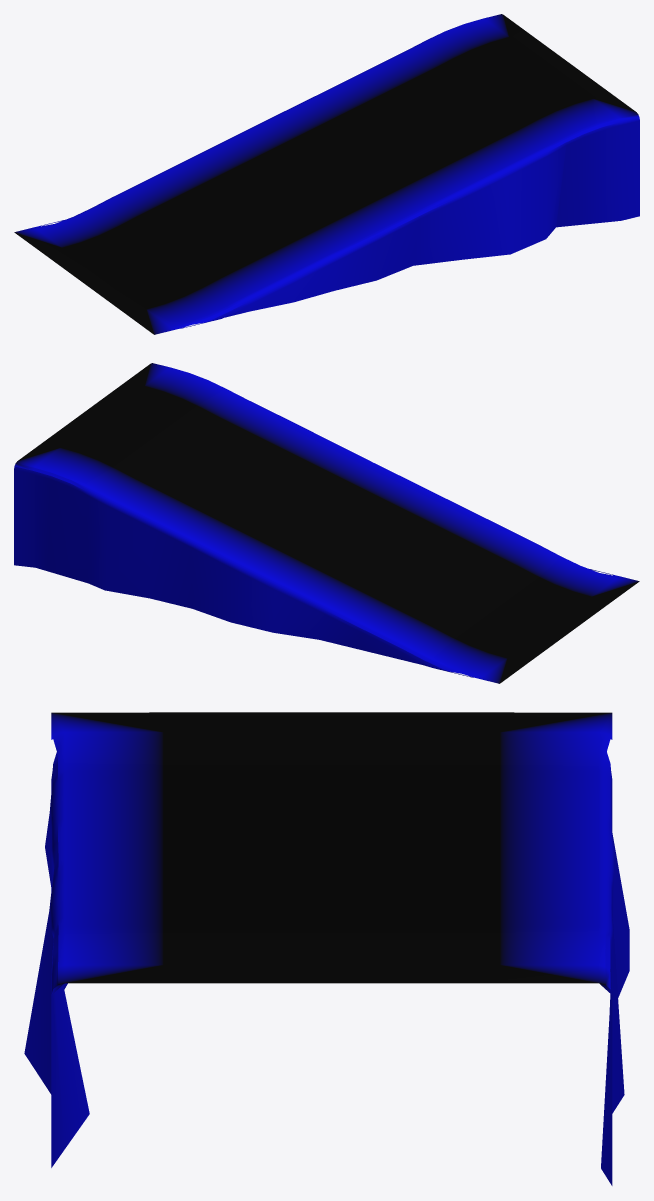
The model's file is Ground_Ramp_0.fbx.
3 renders of one model, top to bottom at view 1: azimuth 30°, elevation 25°; view 2: azimuth 150°, elevation 25°; view 3: azimuth 270°, elevation 25°, orthographic. The views are drawn at different scales.
Parts seen in each view (by area): view 1: Ground_Ramp_0; view 2: Ground_Ramp_0; view 3: Ground_Ramp_0.
Boxes of the visible parts, box(x1,y1,x2,y2) form: Ground_Ramp_0: box(14, 14, 639, 334); Ground_Ramp_0: box(14, 363, 639, 683); Ground_Ramp_0: box(24, 712, 629, 1185).
Size of the model in its own units: 0.1 by 0.0201 by 0.054.
